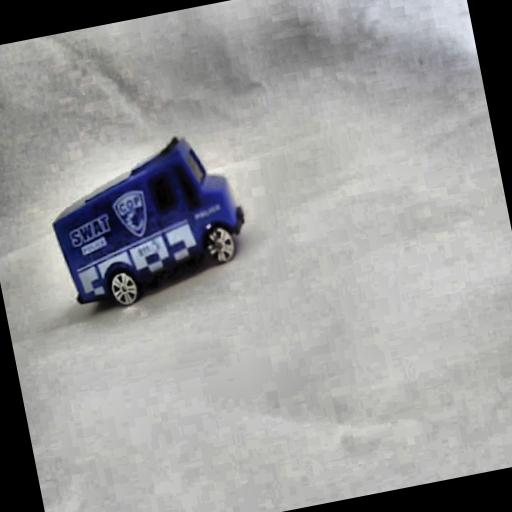police car: (36, 122, 258, 320)
